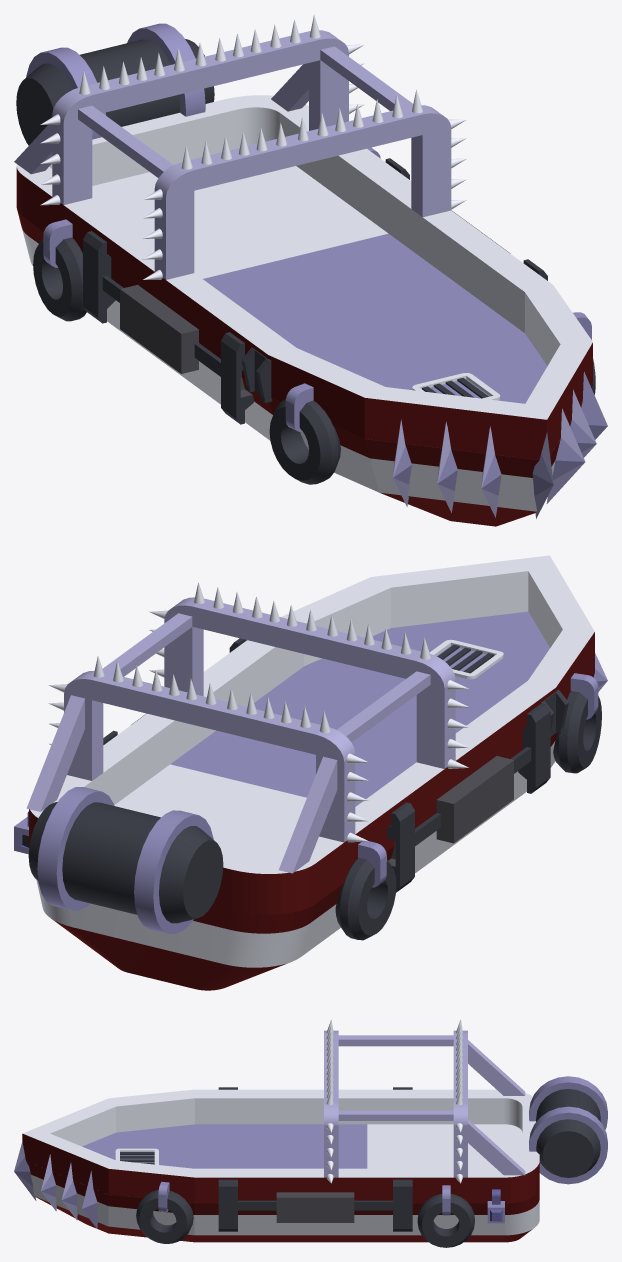
The model's file is boat large enemy.fbx.
The picture shows the model from 3 angles, top to bottom: view 1: azimuth 30°, elevation 25°; view 2: azimuth 150°, elevation 25°; view 3: azimuth 270°, elevation 25°; orthographic projection. The views are drawn at different scales.
Visible parts, largest first — view 1: hull_half, rail_front, detail_rollbarLarge, rail_back, hull_halfBack, hull_halfFront, detail_rollbar, rail, detail_tank, bogie_frame, detail_tireAttachment (×2), blade_dual_top (×7) (+2 smaller); view 2: hull_halfBack, detail_tank, detail_rollbar, rail_front, detail_rollbarLarge, hull_half, rail_back, rail, hull_halfFront, bogie_frame, detail_tireAttachment (×2), grate_square (+1 smaller); view 3: hull_half, rail_front, rail, rail_back, hull_halfBack, detail_tank, hull_halfFront, bogie_frame, detail_tireAttachment (×2), detail_rollbarLarge, detail_rollbar, blade_dual_top (×4) (+2 smaller).
Part boxes in pixels (box(x1,y1,x2,y2)): hull_half: box(145, 233, 524, 440); rail_front: box(268, 285, 592, 459); detail_rollbarLarge: box(64, 41, 451, 279); rail_back: box(16, 95, 411, 287); hull_halfBack: box(17, 166, 387, 349); hull_halfFront: box(270, 333, 592, 526); detail_rollbar: box(14, 30, 348, 204); rail: box(131, 187, 552, 378); detail_tank: box(16, 23, 214, 145); bogie_frame: box(83, 231, 253, 424); detail_tireAttachment (×2): box(33, 219, 340, 484); blade_dual_top (×7): box(393, 371, 607, 518); hull_halfBack: box(36, 764, 416, 990); detail_tank: box(28, 787, 223, 934); detail_rollbar: box(26, 671, 355, 873); rail_front: box(281, 555, 594, 699); detail_rollbarLarge: box(64, 597, 455, 841); hull_half: box(170, 666, 554, 873); rail_back: box(29, 717, 422, 914); rail: box(142, 640, 555, 822); hull_halfFront: box(304, 611, 594, 767); bogie_frame: box(387, 703, 550, 892); detail_tireAttachment (×2): box(335, 673, 601, 940); grate_square: box(429, 639, 503, 679); hull_half: box(194, 1124, 367, 1242); rail_front: box(22, 1089, 194, 1203); rail: box(195, 1089, 367, 1203); rail_back: box(367, 1089, 539, 1203); hull_halfBack: box(367, 1124, 539, 1242); detail_tank: box(529, 1076, 607, 1184); hull_halfFront: box(26, 1124, 194, 1242); bogie_frame: box(218, 1179, 412, 1231); detail_tireAttachment (×2): box(136, 1181, 474, 1247); detail_rollbarLarge: box(324, 1030, 453, 1177); detail_rollbar: box(453, 1030, 525, 1177); blade_dual_top (×4): box(14, 1141, 97, 1228).
Bounding box in the file's own units: 25.42 × 19.53 × 62.
